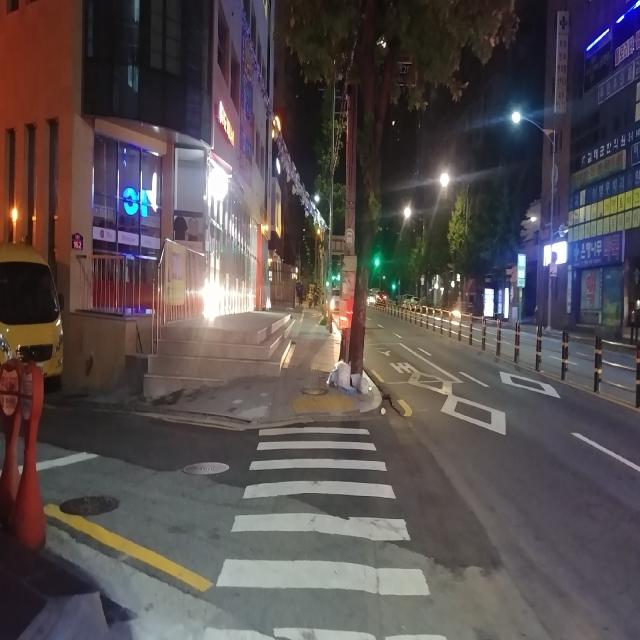횡단보도: (204, 426, 447, 640)
